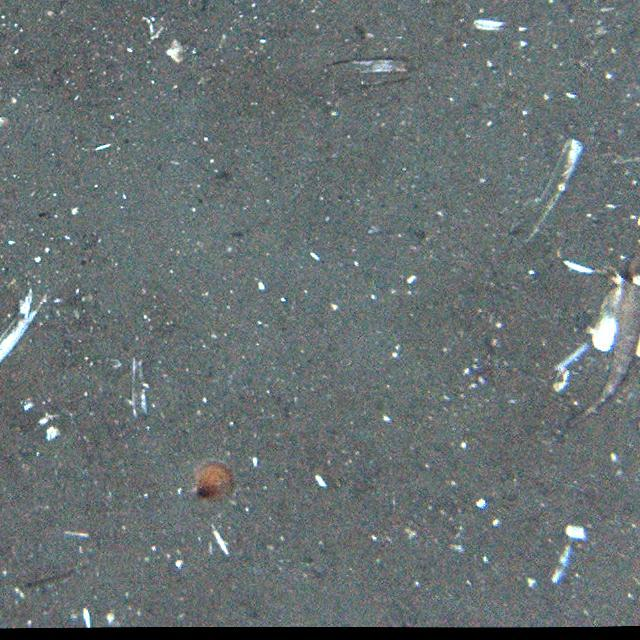roundfish: (560, 252, 640, 430)
